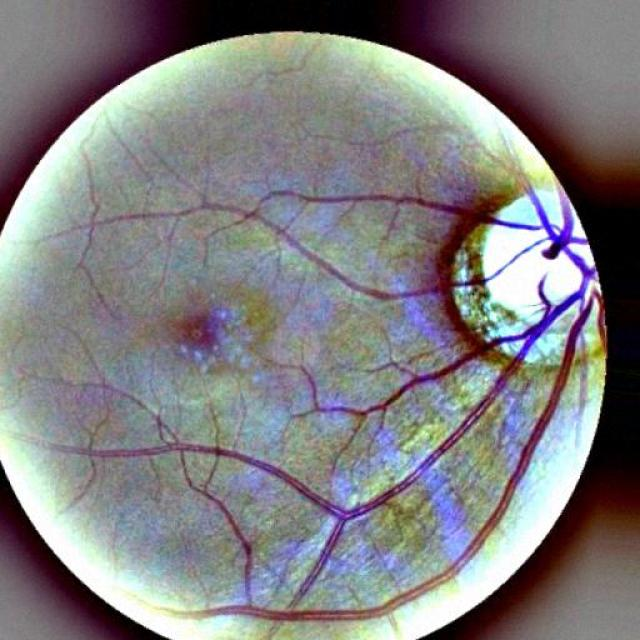Macula: (172, 309, 226, 359)
Nerves: (92, 186, 596, 620)
Optic Disk: (480, 187, 598, 328)
